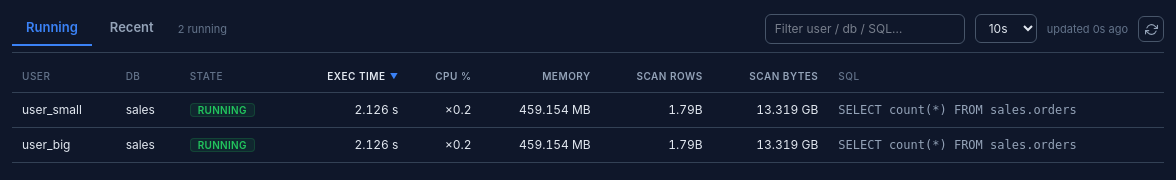
Test: QueriesPanel › clicking another column sorts by it descending
Expected: the table with test id "queries-table" is shown, [12,60,1164,162]
Click the text "Memory" at [566, 76], box [542,68,591,84]
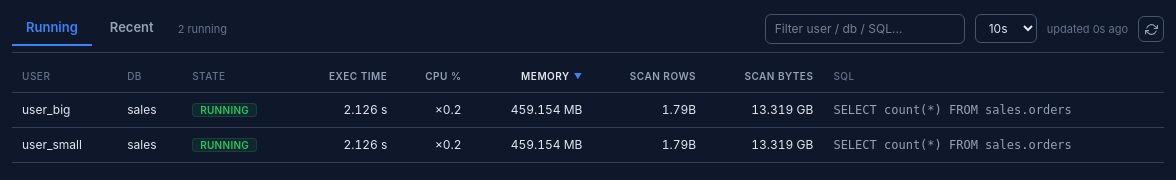
Expected: the row with test id "query-row" shows "user_big", [22,102,70,116]
